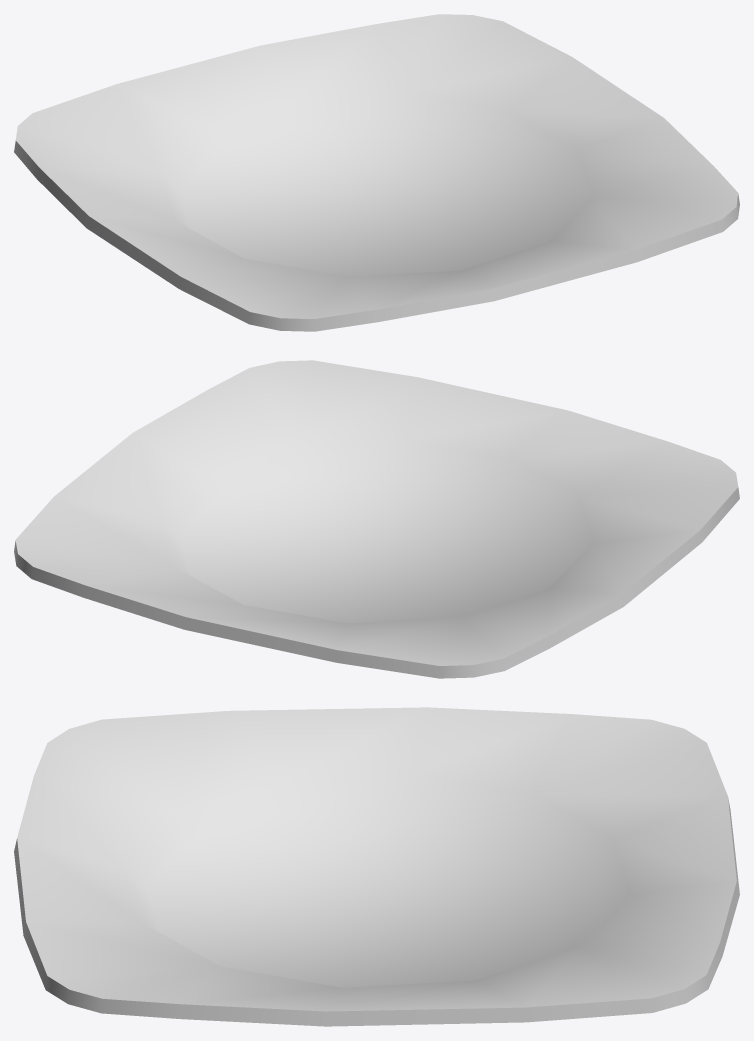
The model's file is PlateC.FBX.
3 views of the same model, one above another, from view 1: azimuth 30°, elevation 25°; view 2: azimuth 150°, elevation 25°; view 3: azimuth 270°, elevation 25° (orthographic). The views are drawn at different scales.
Parts seen in each view (by area): view 1: PlateC_LOD0; view 2: PlateC_LOD0; view 3: PlateC_LOD0.
Part boxes in pixels (x1,y1,x2,y2): PlateC_LOD0: (14, 14, 739, 331); PlateC_LOD0: (14, 360, 739, 678); PlateC_LOD0: (14, 707, 739, 1026).
Size of what is drawn, in the model's own units: 23.45 by 1.95 by 23.45.
